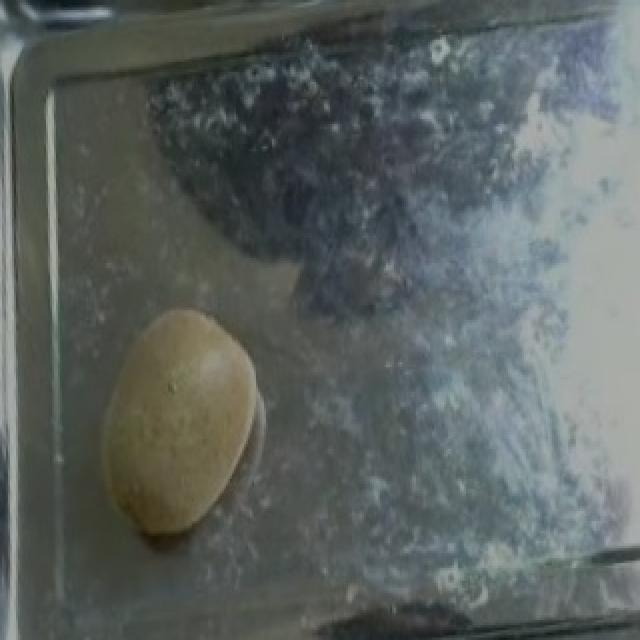Fruit: (84, 298, 268, 548)
